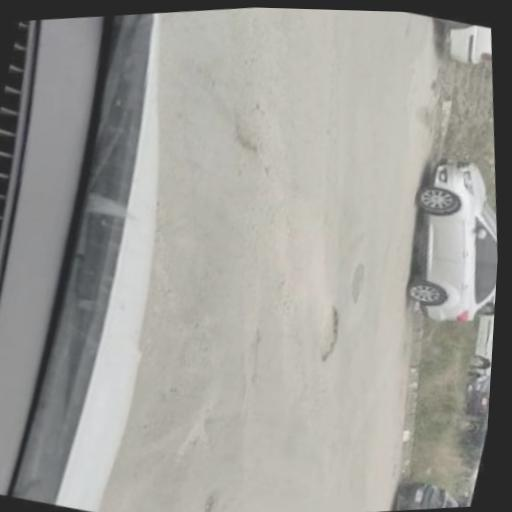pothole: (318, 302, 340, 361)
